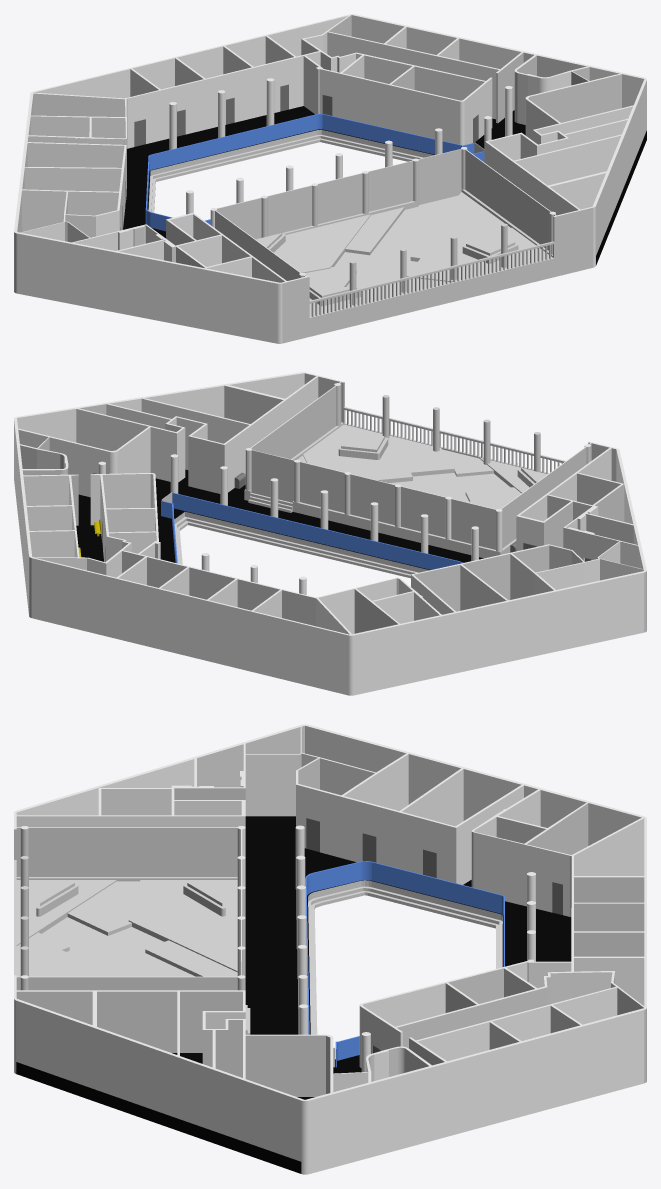
The model's file is map.obj.
3 views of the same model, one above another, from view 1: azimuth 30°, elevation 25°; view 2: azimuth 150°, elevation 25°; view 3: azimuth 270°, elevation 25° (orthographic). The views are drawn at different scales.
Parts seen in each view (by area): view 1: map; view 2: map; view 3: map.
Part boxes in pixels (bbox=[...]): map: bbox=[14, 14, 646, 343]; map: bbox=[14, 372, 646, 695]; map: bbox=[14, 724, 646, 1174].
Size of the model in its own units: 660 by 60 by 468.
